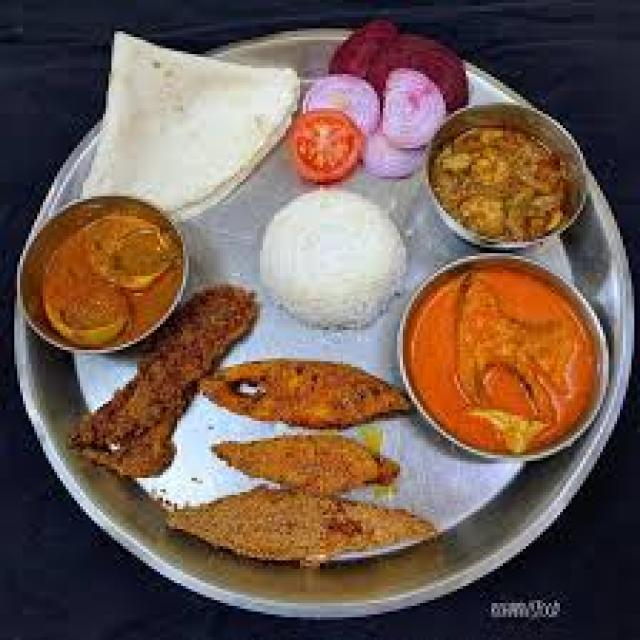ROTI: (80, 34, 294, 216)
